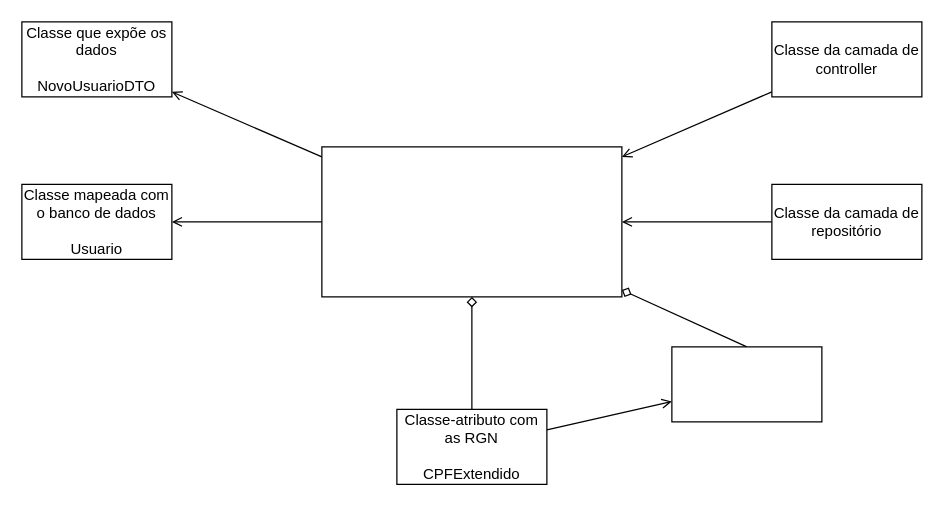
Image size: 944x506. Some labels were removed from this diagram. The box of each missing label's shape, as (x1, y1, x2, y2) in pixels:
Classe-objeto com as RGN UsuarioExtendido: (321, 146, 622, 297)
Classe-objeto exposta a atributo UsuarioAtributo: (671, 346, 822, 422)
